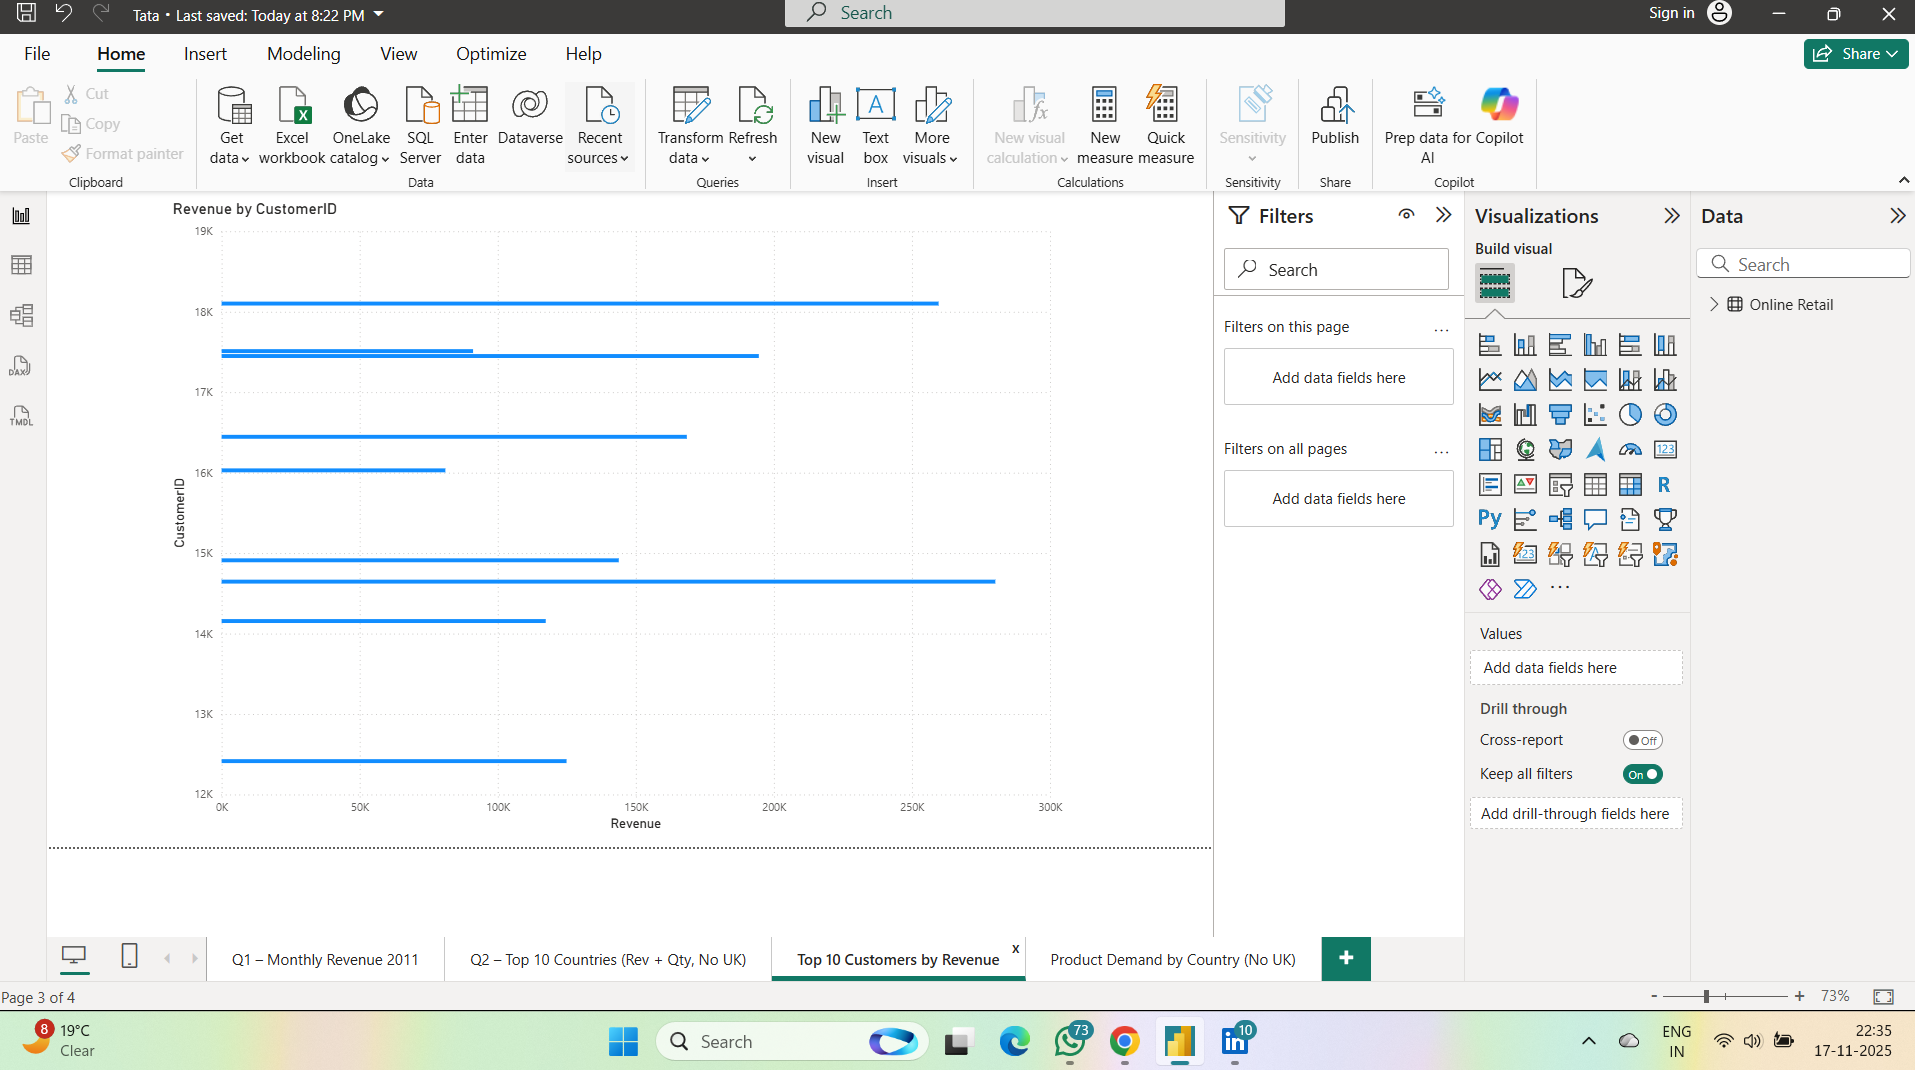

The dashboard page shown, as its layout file describes it:
{"tool":"powerbi","page":{"name":"Top 10 Customers by Revenue","canvas":[1280,720],"ordinal":2},"visuals":[{"type":"clusteredBarChart","fields":{"Category":["Online Retail.CustomerID"],"Y":["Online Retail.Revenue"]},"box":[132.9,10,987.1,698.6],"z":0}]}

Visuals, with their boxes on the page's 1280x720 design canvas (x1, y1, x2, y2). These are canvas units, not pixel positions in the 1915x1070 screenshot, which may show the page scaled, cropped or inside an application window:
clusteredBarChart - Online Retail.CustomerID x Online Retail.Revenue: <region>133, 10, 1120, 709</region>
